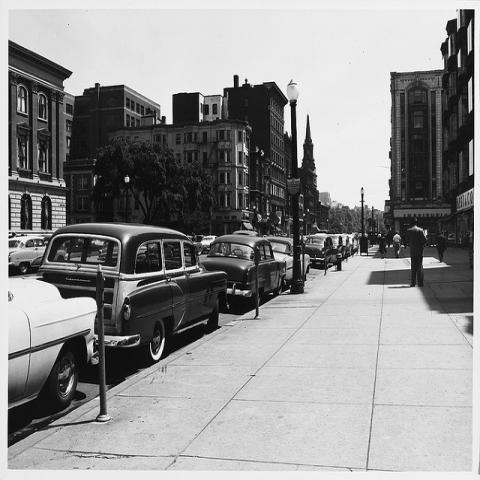car: (39, 217, 233, 360), (7, 278, 99, 412), (206, 234, 288, 307), (265, 237, 312, 282), (8, 236, 46, 273), (304, 234, 326, 268), (329, 235, 346, 262), (200, 235, 218, 254)
